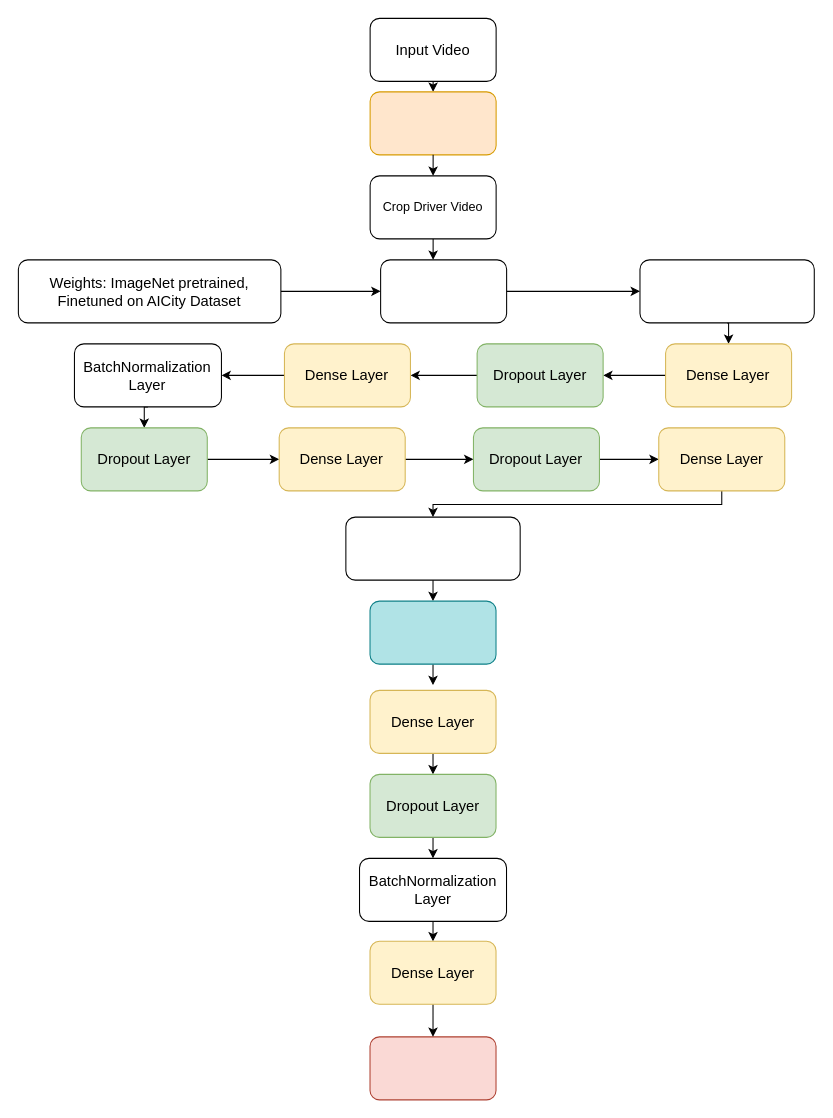
Some shapes in this 833 by 1118 pixel diagram are drawn without their labels. Here are the shapes that lost their labels. From the top down, the centre of each, then its label:
At point (432, 123): "MediaPose".
At point (443, 291): "MobileNet Architecture".
At point (726, 291): "GlobalAveragePooling 2D Layer".
At point (432, 548): "Time DIstributed Layer".
At point (432, 632): "LSTM".
At point (432, 1068): "Distracted Driving Recognition".
